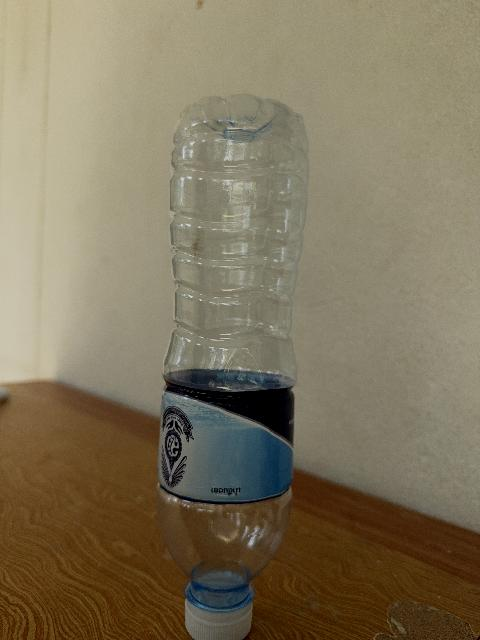bottle: (157, 95, 308, 639)
